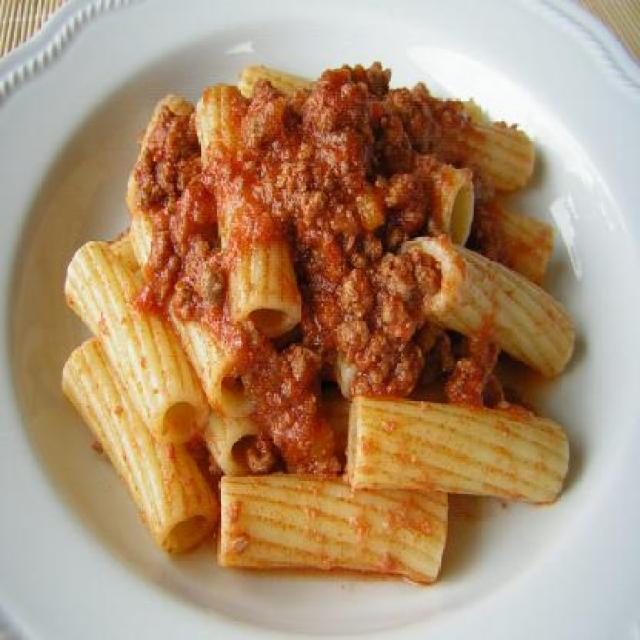Pasta al ragu: (50, 32, 608, 600)
